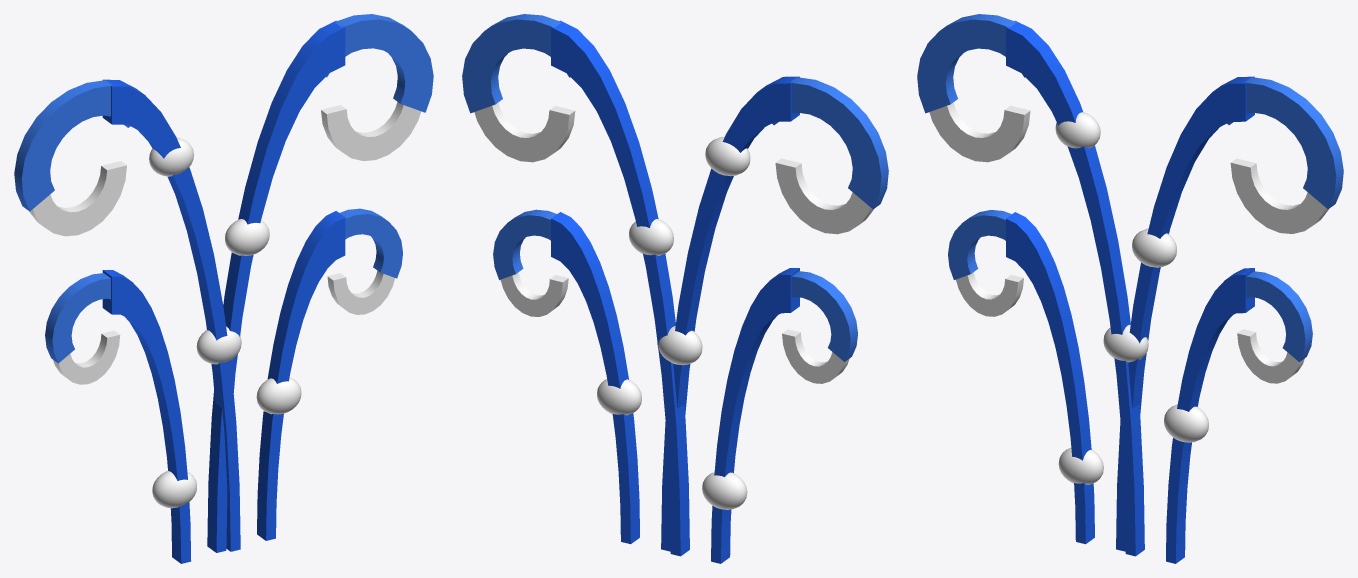
Rendered from glowplant_blue.fbx.
The picture shows the model from 3 angles, left to right: view 1: azimuth 30°, elevation 25°; view 2: azimuth 150°, elevation 25°; view 3: azimuth 330°, elevation 25°; orthographic projection.
Visible parts, largest first — view 1: mergedBlocks; view 2: mergedBlocks; view 3: mergedBlocks.
Part boxes in pixels (x1=…): mergedBlocks: x1=14, y1=14, x2=433, y2=563; mergedBlocks: x1=462, y1=14, x2=888, y2=563; mergedBlocks: x1=917, y1=14, x2=1343, y2=563.
Size of the model in its own units: 13.04 by 14.92 by 0.946.
